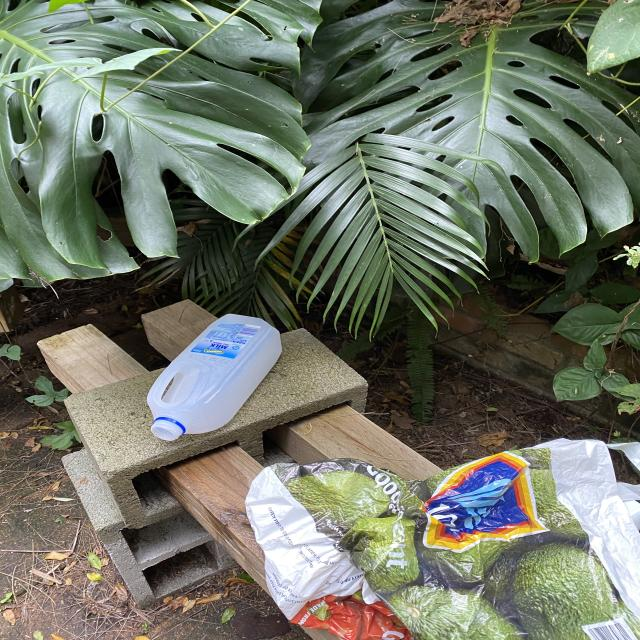bag: (245, 436, 640, 640)
bottle: (147, 313, 282, 441)
